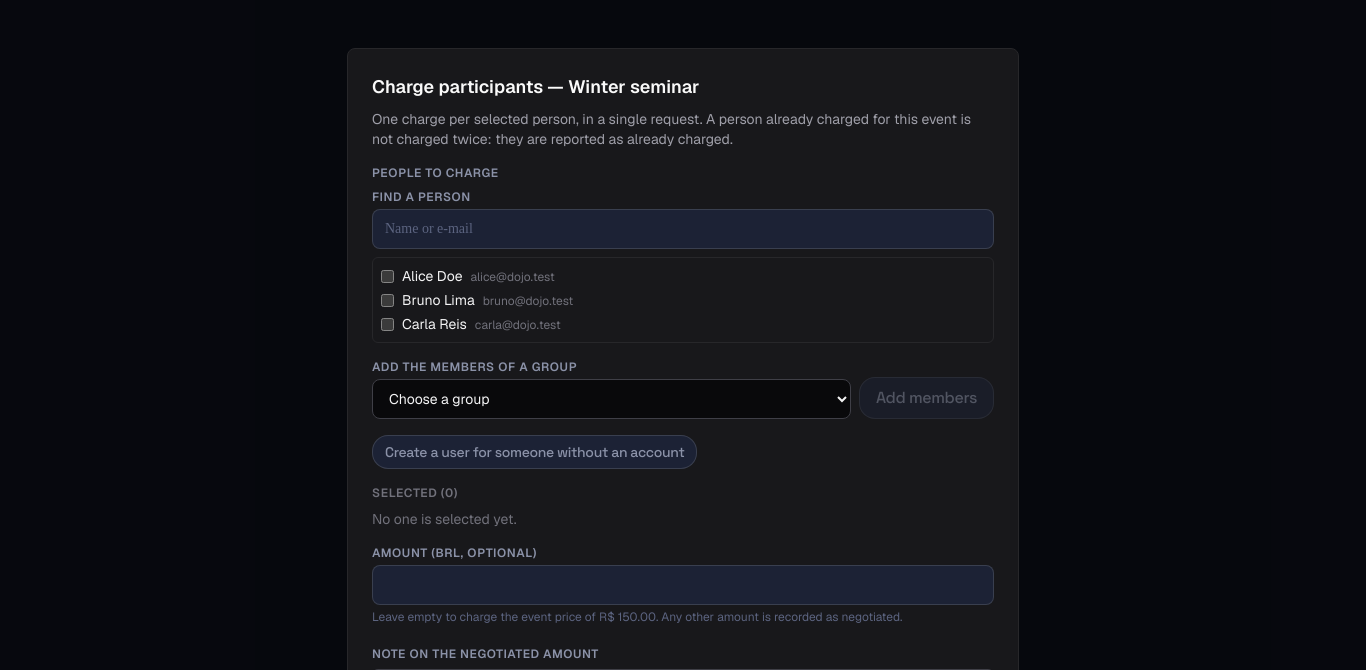
Scenario: ChargeDialog › never checks the audience of a public event
The image size is (1366, 670).
Click the checkbox labelled "Alice Doe".
click(388, 276)  # box [381,270,394,282]
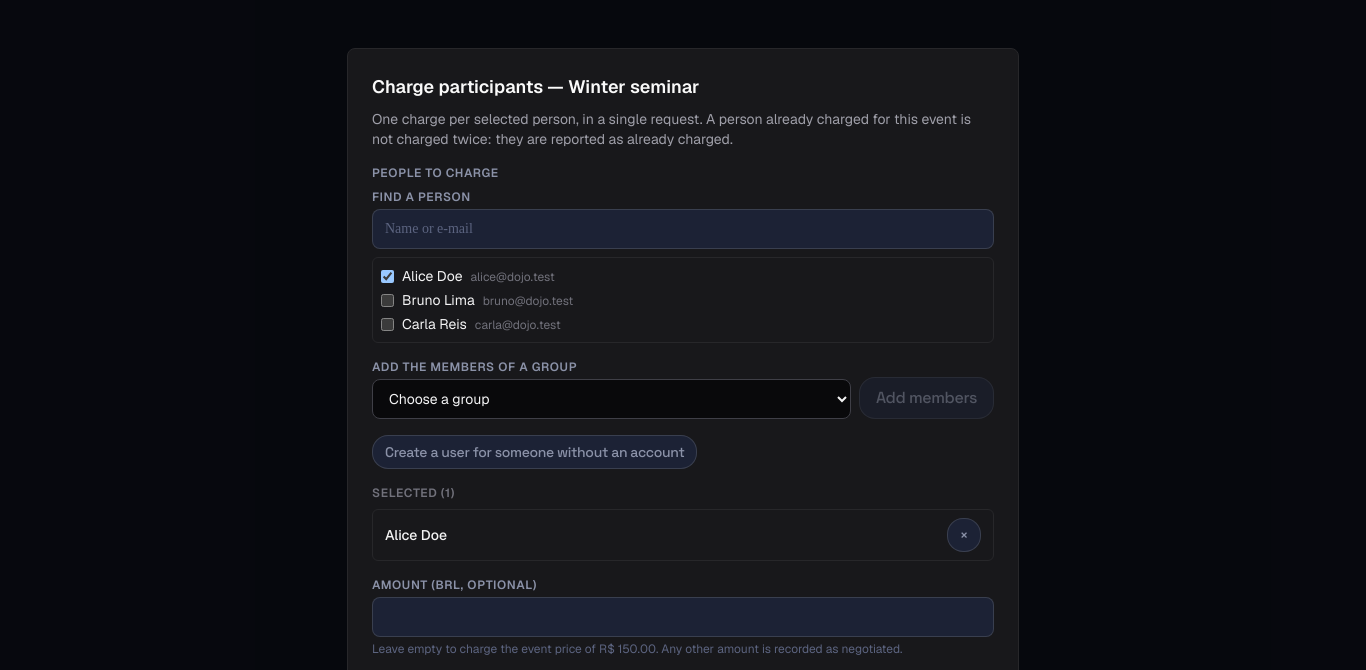
Expected: the list item with test id "selected-u1" is shown, [372,509,994,561]
